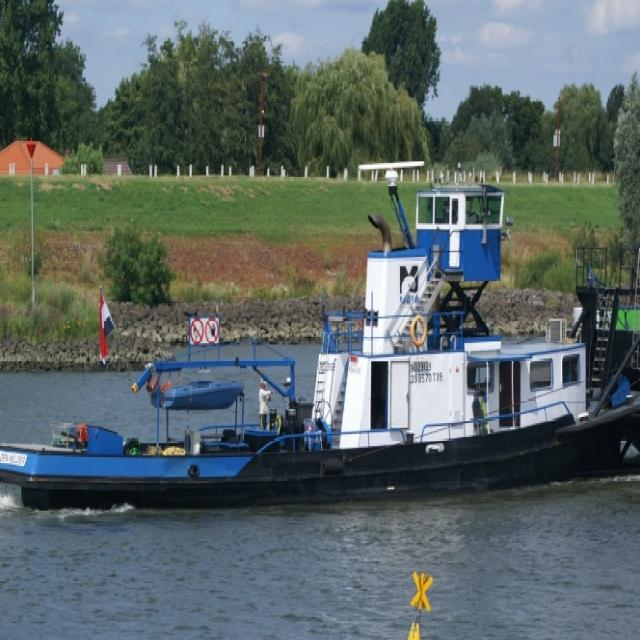tugboat: (1, 151, 640, 534)
